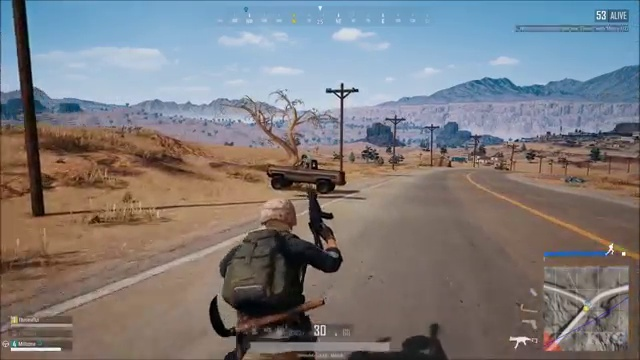Player: (197, 190, 350, 321)
